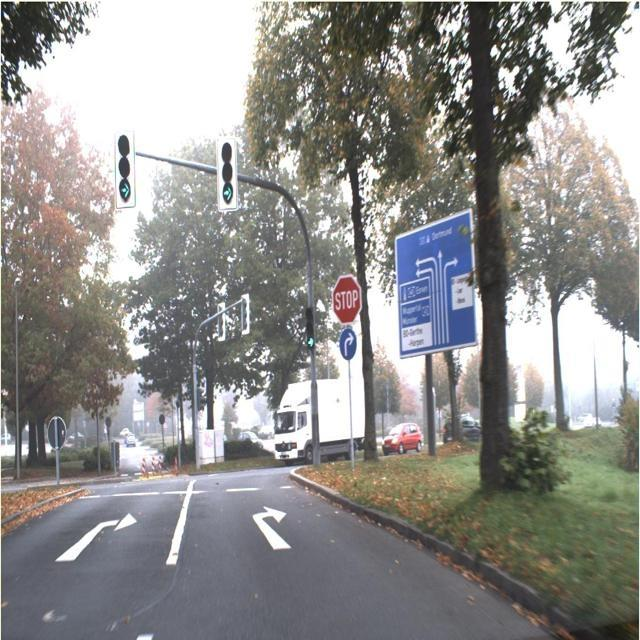prio_stop: (332, 275, 362, 325)
